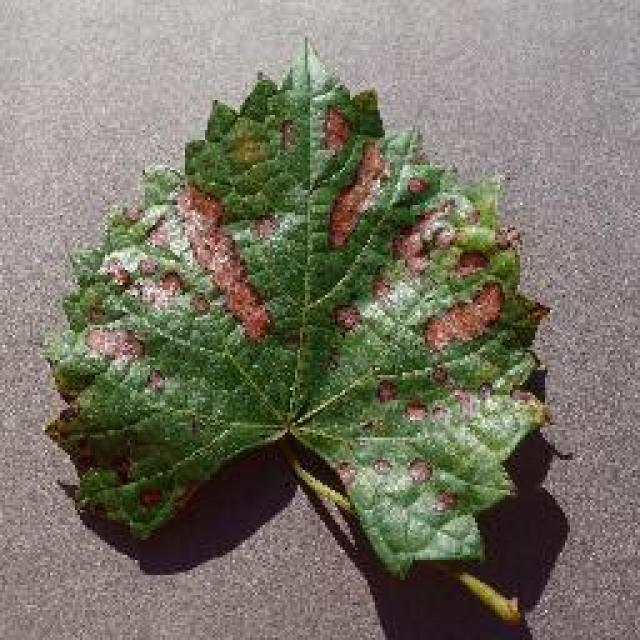Black_Measles: (31, 39, 553, 612)
